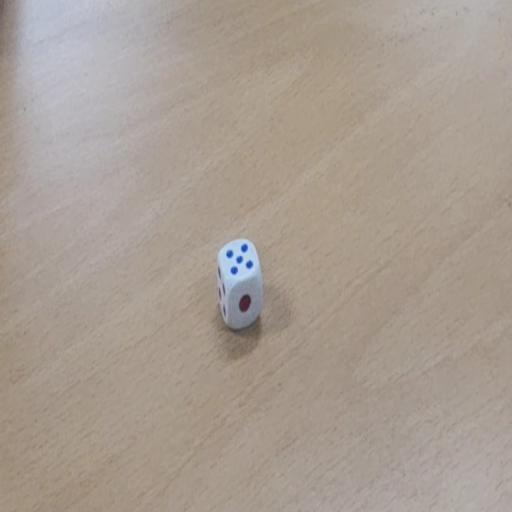dice_5: (216, 237, 262, 333)
